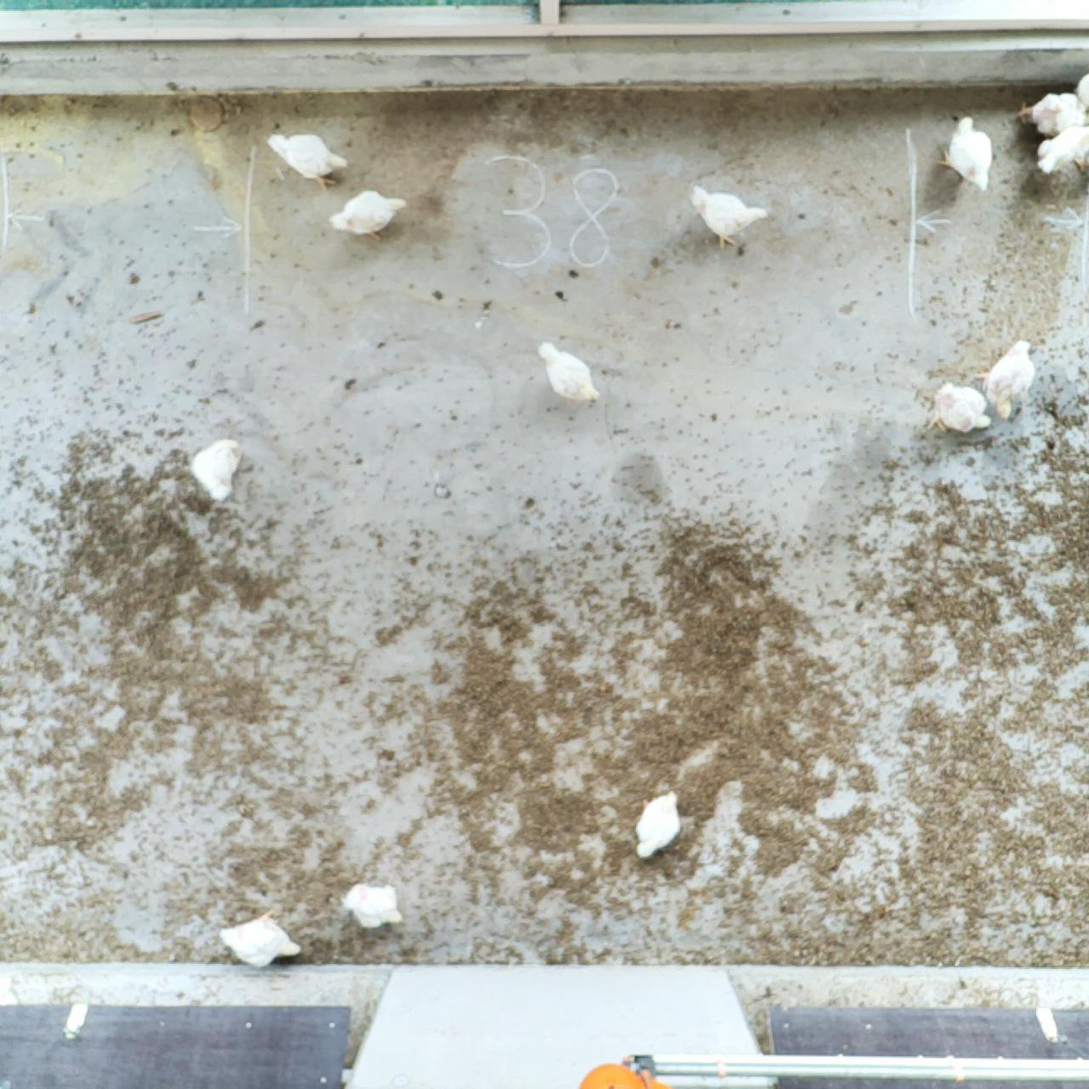chicken: (687, 179, 776, 251), (217, 906, 307, 973), (263, 127, 351, 189), (932, 115, 999, 195), (981, 333, 1040, 419), (184, 430, 249, 506), (325, 187, 410, 244), (531, 337, 602, 403), (630, 784, 685, 863), (924, 377, 993, 439), (1012, 87, 1089, 142), (337, 879, 409, 934), (1031, 117, 1089, 181), (1072, 67, 1089, 113)
